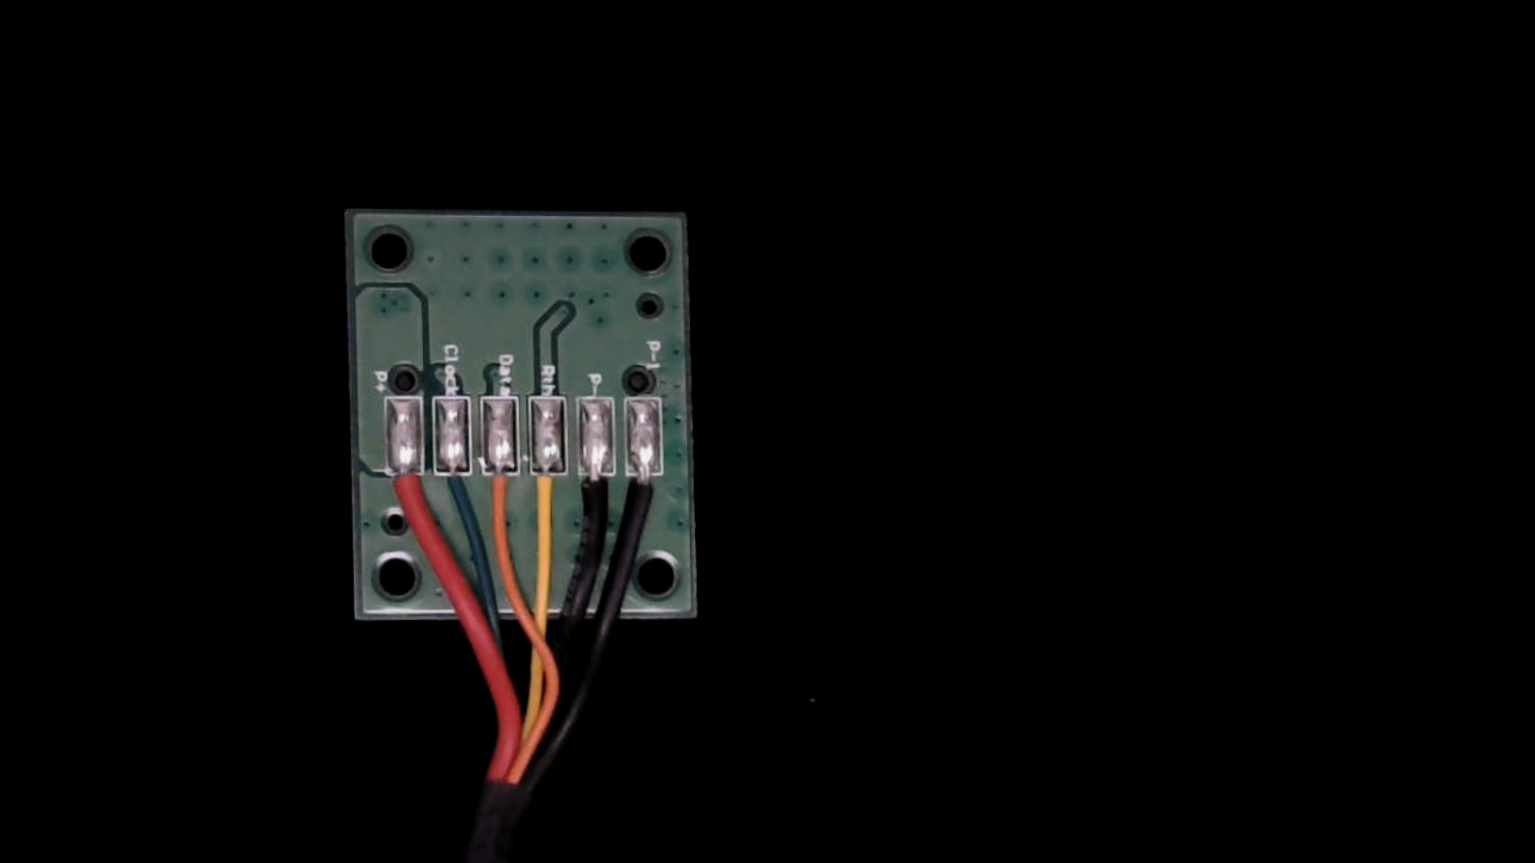Black: (574, 454, 617, 537)
Black1: (627, 455, 666, 531)
Green: (430, 450, 473, 536)
Orange: (481, 451, 522, 541)
Red: (384, 453, 428, 540)
Yellow: (527, 452, 568, 529)
